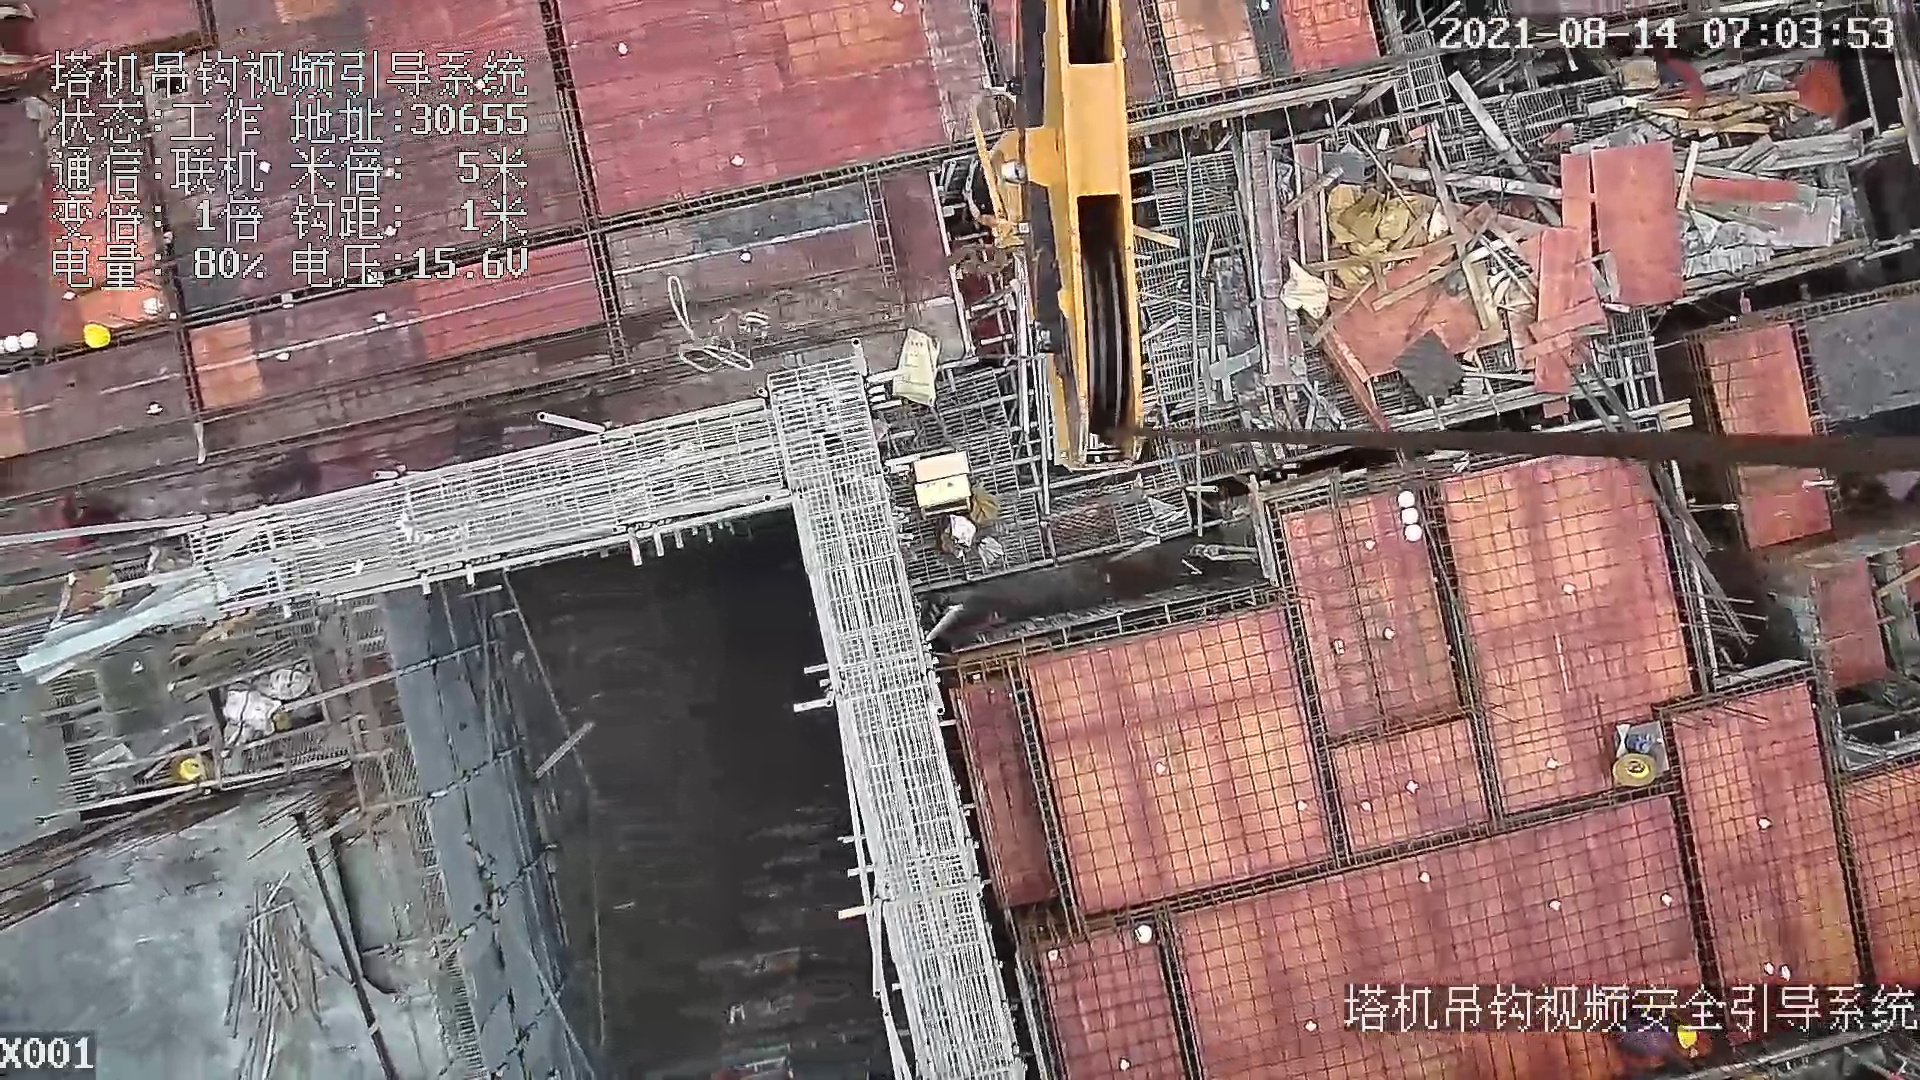helmet: (78, 320, 117, 351)
hook: (964, 1, 1146, 477)
